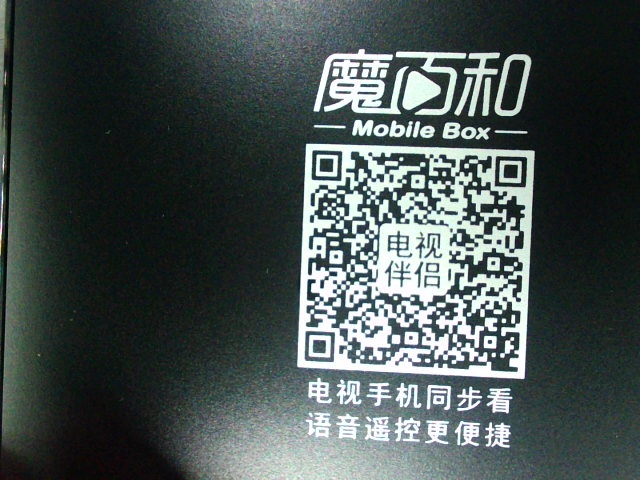AZ_MobileBox: (282, 40, 545, 450)
